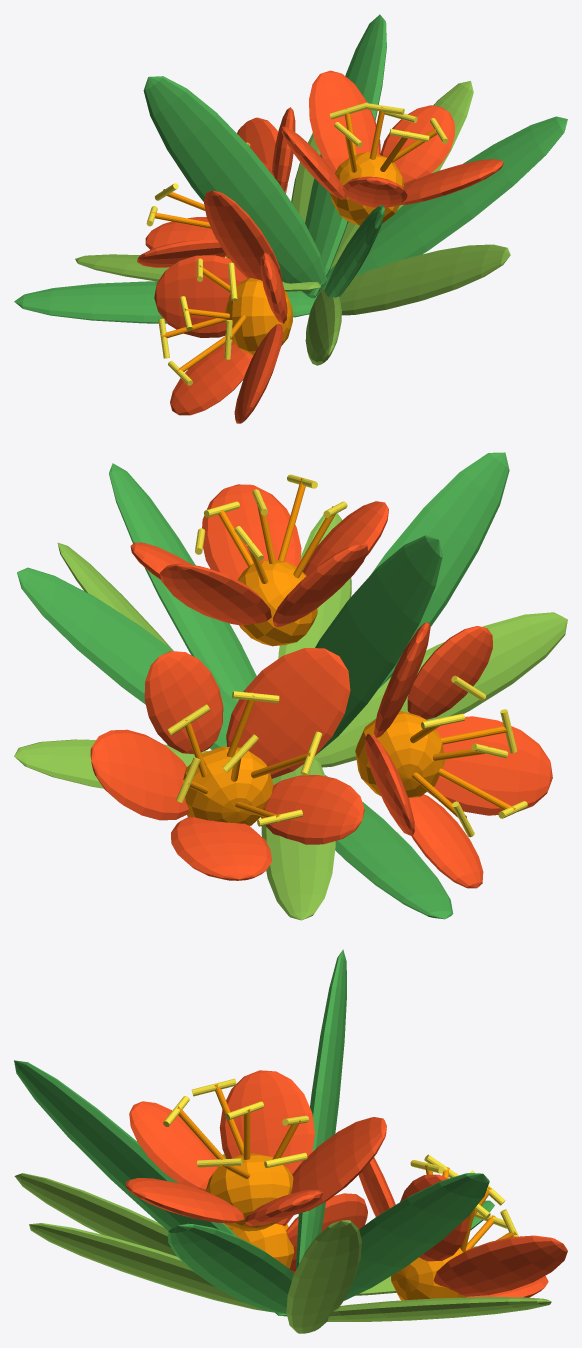
The picture shows the model from 3 angles, top to bottom: view 1: azimuth 30°, elevation 25°; view 2: azimuth 150°, elevation 25°; view 3: azimuth 270°, elevation 25°; orthographic projection. The views are drawn at different scales.
Visible parts, largest first — view 1: mesh_1492169187, mesh_1151237140, mesh_315801987, mesh_881273782, mesh_1969634432, mesh_885398364, mesh_1719653840, mesh_1445352699, mesh_1598799048, mesh_1357302178, mesh_10601268, mesh_980808085 (+14 smaller); view 2: mesh_1492169187, mesh_186309208, mesh_1969634432, mesh_1859036192, mesh_1151237140, mesh_1391657450, mesh_1558828722, mesh_1653453548, mesh_881273782, mesh_432241109, mesh_1495573334, mesh_980808085 (+18 smaller); view 3: mesh_1969634432, mesh_1859036192, mesh_1151237140, mesh_1644941578, mesh_323631584, mesh_1653453548, mesh_1492169187, mesh_315801987, mesh_1558828722, mesh_1719653840, mesh_1034471859, mesh_1655284791 (+9 smaller).
Part boxes in pixels (x1=…): mesh_1492169187: x1=143, y1=76, x2=326, y2=293; mesh_1151237140: x1=316, y1=116, x2=567, y2=295; mesh_315801987: x1=339, y1=244, x2=510, y2=315; mesh_881273782: x1=14, y1=281, x2=316, y2=323; mesh_1969634432: x1=303, y1=14, x2=386, y2=298; mesh_885398364: x1=154, y1=255, x2=247, y2=337; mesh_1719653840: x1=309, y1=70, x2=380, y2=173; mesh_1445352699: x1=204, y1=190, x2=282, y2=282; mesh_1598799048: x1=170, y1=341, x2=252, y2=415; mesh_1357302178: x1=380, y1=105, x2=454, y2=184; mesh_10601268: x1=225, y1=278, x2=293, y2=355; mesh_980808085: x1=398, y1=159, x2=503, y2=205; mesh_1492169187: x1=315, y1=535, x2=442, y2=755; mesh_186309208: x1=226, y1=648, x2=350, y2=778; mesh_1969634432: x1=17, y1=567, x2=237, y2=749; mesh_1859036192: x1=371, y1=452, x2=509, y2=688; mesh_1151237140: x1=109, y1=463, x2=256, y2=702; mesh_1391657450: x1=427, y1=716, x2=552, y2=815; mesh_1558828722: x1=315, y1=612, x2=567, y2=767; mesh_1653453548: x1=90, y1=729, x2=189, y2=820; mesh_881273782: x1=325, y1=775, x2=453, y2=919; mesh_432241109: x1=144, y1=651, x2=223, y2=754; mesh_1495573334: x1=261, y1=775, x2=364, y2=844; mesh_980808085: x1=202, y1=484, x2=301, y2=579; mesh_1969634432: x1=344, y1=1173, x2=489, y2=1300; mesh_1859036192: x1=14, y1=1060, x2=235, y2=1235; mesh_1151237140: x1=168, y1=1223, x2=294, y2=1313; mesh_1644941578: x1=219, y1=1070, x2=314, y2=1174; mesh_323631584: x1=286, y1=1220, x2=361, y2=1333; mesh_1653453548: x1=433, y1=1235, x2=567, y2=1296; mesh_1492169187: x1=296, y1=949, x2=346, y2=1269; mesh_315801987: x1=29, y1=1223, x2=273, y2=1312; mesh_1558828722: x1=14, y1=1173, x2=176, y2=1256; mesh_1719653840: x1=290, y1=1117, x2=386, y2=1214; mesh_1034471859: x1=129, y1=1101, x2=218, y2=1190; mesh_1655284791: x1=327, y1=1297, x2=551, y2=1321.
Size of the model in its own units: 49.09 by 35.36 by 49.65.
